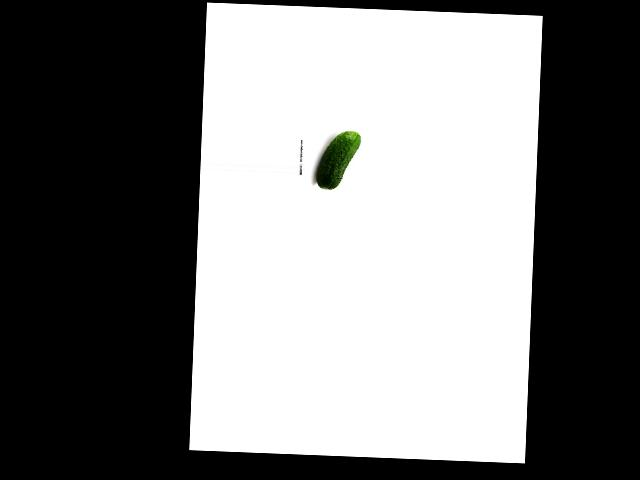cucumber: (315, 130, 361, 190)
